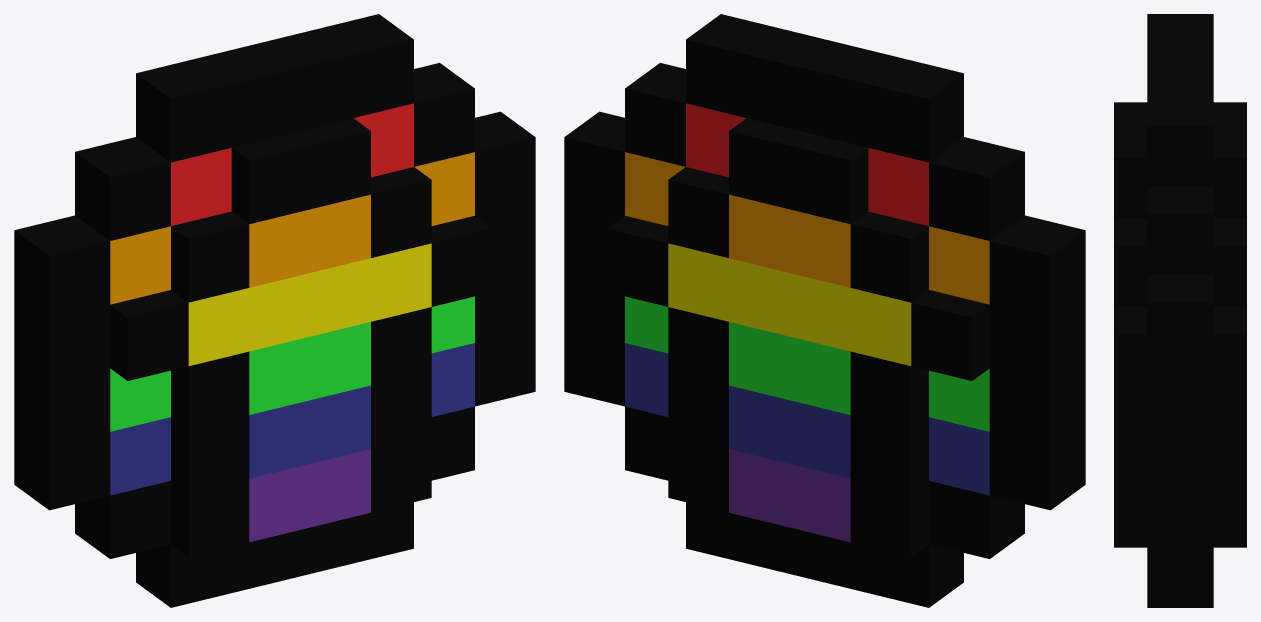
Rendered from Rainbow Firecracker Pebble.glb.
3 views of the same model, side by side, from view 1: azimuth 30°, elevation 25°; view 2: azimuth 150°, elevation 25°; view 3: azimuth 270°, elevation 25° (orthographic). The views are drawn at different scales.
Visible parts, largest first — view 1: generated(Clone); view 2: generated(Clone); view 3: generated(Clone).
Part boxes in pixels (<box>): generated(Clone): <box>14,14,535,607</box>; generated(Clone): <box>564,14,1085,607</box>; generated(Clone): <box>1114,14,1246,607</box>.
Size of the model in its own units: 8 by 8 by 2.
Materials: 1 (1 with a texture image).
